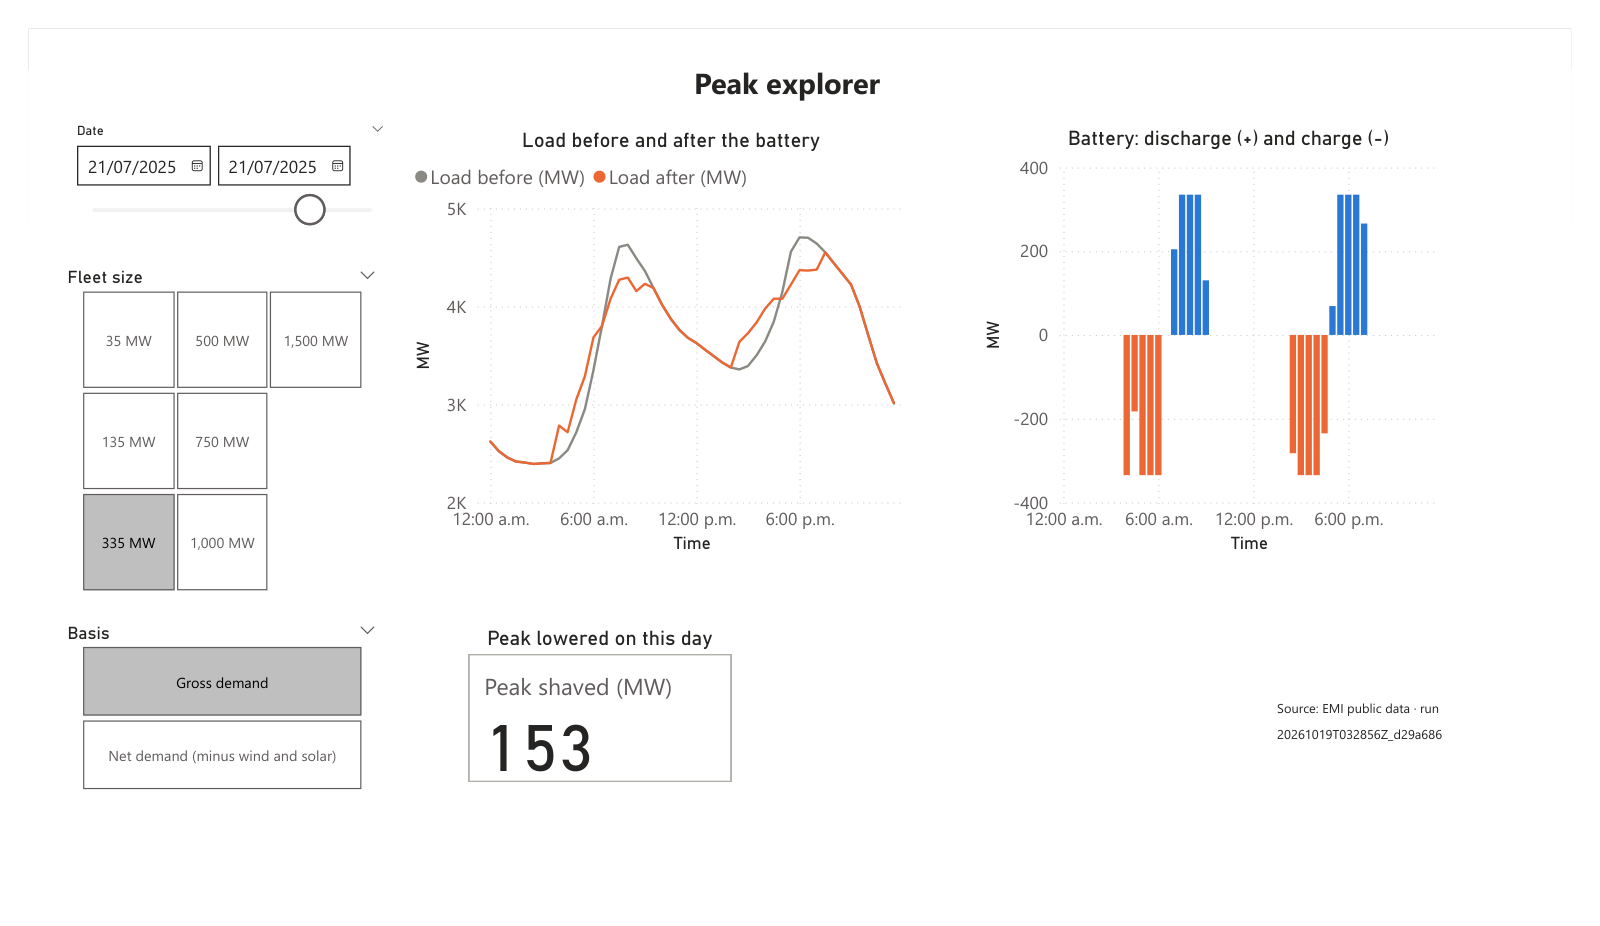

What the dashboard file says about the page in this screenshot:
{"tool":"powerbi","page":{"name":"Peak explorer","canvas":[1280,720],"ordinal":1},"visuals":[{"type":"slicer","fields":{"Values":["Dim_Date.Date"]},"box":[27.2,72.9,280.1,112.8],"z":0},{"type":"slicer","fields":{"Values":["dim_p.label"]},"box":[19.5,192.6,280.1,280.1],"z":1000},{"type":"slicer","fields":{"Values":["Dim_Basis.basis_label"]},"box":[19.5,488.3,280.1,149.8],"z":2000},{"type":"lineChart","title":"Load before and after the battery ","fields":{"Y":["_Measures.Load before (MW)","_Measures.Load after (MW)"],"Category":["pbi_dispatch.ts_local"]},"box":[314.2,81.7,437.7,357.9],"z":3000},{"type":"clusteredColumnChart","title":"Battery: discharge (+) and charge (−)","fields":{"Y":["Sum(pbi_dispatch.battery_mw)"],"Category":["pbi_dispatch.ts_local"]},"box":[786.9,79.8,417.3,359.9],"z":4000},{"type":"cardVisual","title":"Peak lowered on this day","fields":{"Data":["_Measures.Peak shaved (MW)"]},"box":[359.9,495.1,228.6,135.2],"z":5000},{"type":"textbox","box":[1031,545.7,173.1,84.6],"z":6000},{"type":"textbox","box":[547,23,186,42],"z":6001}]}

Visuals, with their boxes in screenshot pixels (x1, y1, x2, y2), scaled from the page's 1280x720 canvas onto the 1600x926 screenshot:
slicer - Dim_Date.Date: (34, 94, 384, 239)
slicer - dim_p.label: (24, 248, 374, 608)
slicer - Dim_Basis.basis_label: (24, 628, 374, 821)
"Load before and after the battery " lineChart: (393, 105, 940, 565)
"Battery: discharge (+) and charge (−)" clusteredColumnChart: (984, 103, 1505, 566)
"Peak lowered on this day" cardVisual: (450, 637, 736, 811)
textbox: (1289, 702, 1505, 811)
textbox: (684, 30, 916, 84)
